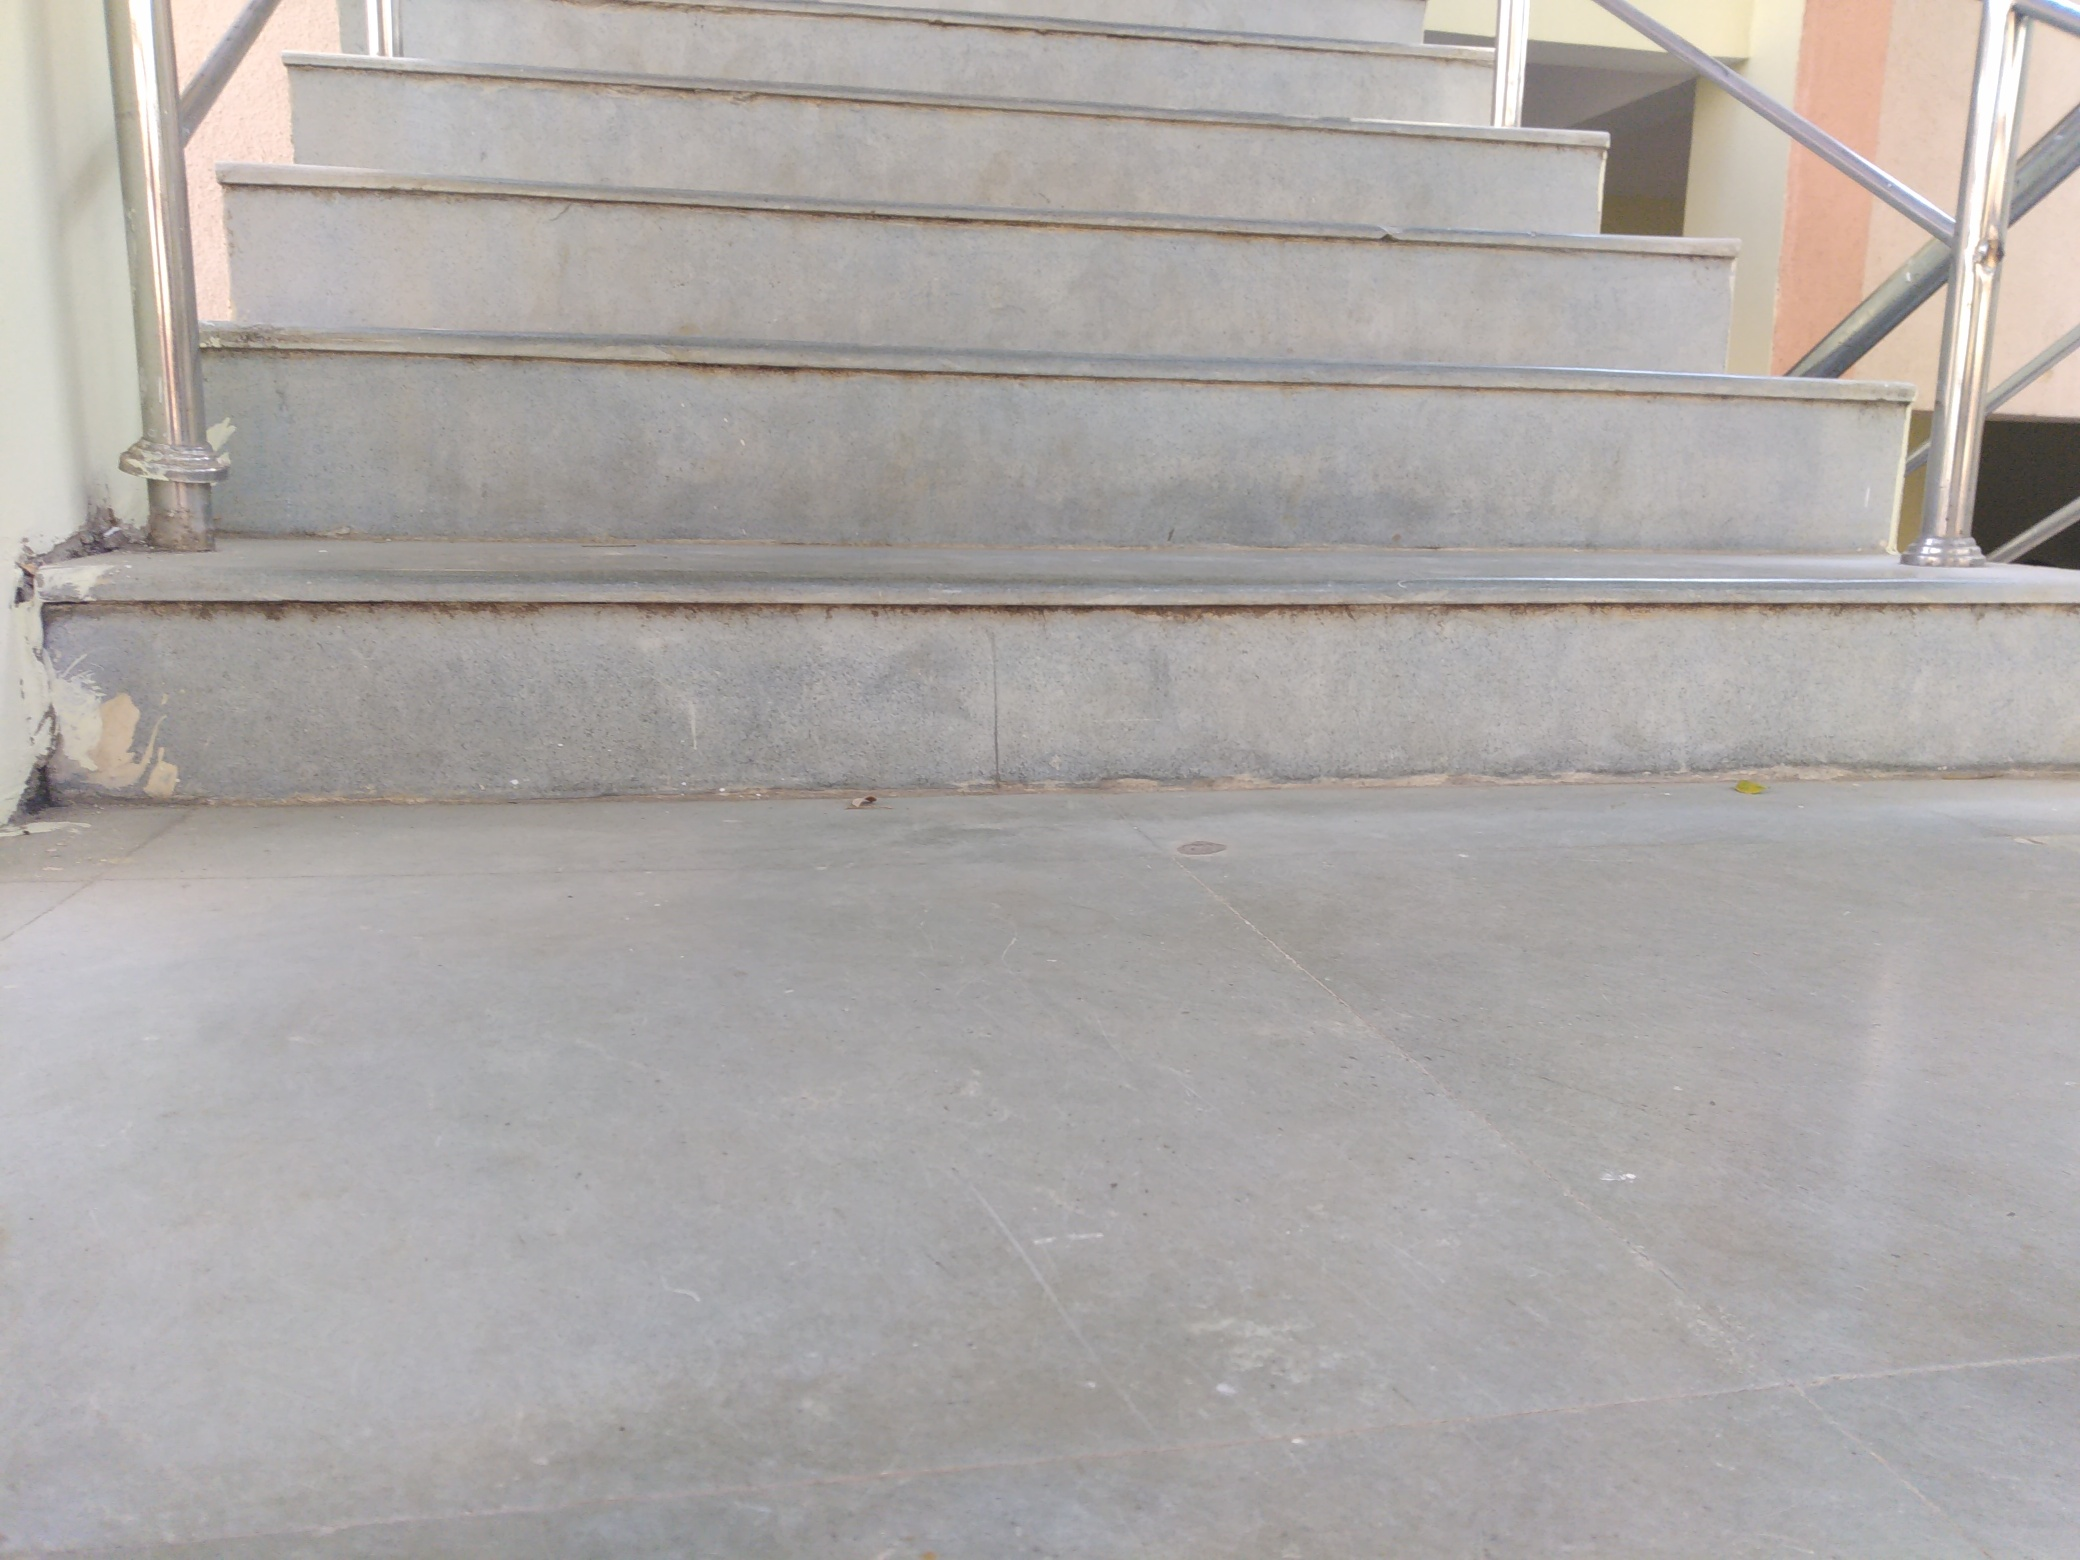stairs_up: (38, 57, 2080, 782)
